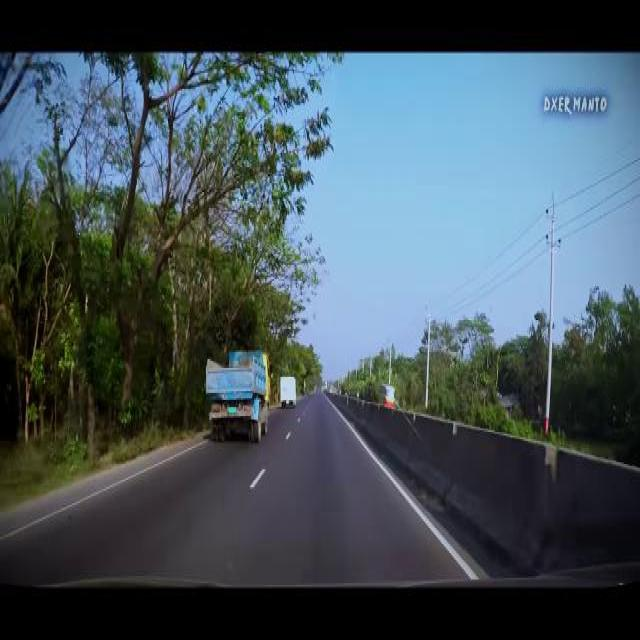bus: (376, 380, 396, 406)
truck: (201, 343, 272, 443), (278, 373, 296, 409)
